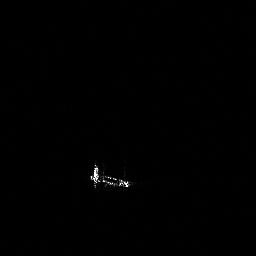ship: (87, 159, 135, 193)
